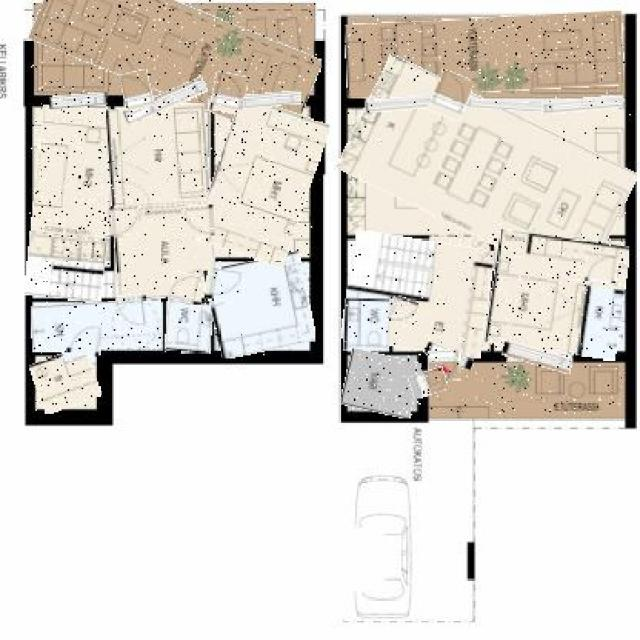door: (431, 71, 471, 120), (211, 72, 246, 114), (206, 269, 243, 303), (121, 71, 152, 111), (117, 296, 151, 332), (169, 272, 205, 305), (409, 368, 448, 397), (68, 323, 100, 357), (182, 206, 216, 237), (584, 254, 618, 283), (429, 351, 460, 380), (106, 208, 139, 235), (388, 297, 417, 325)
window: (123, 86, 209, 117), (502, 345, 572, 369), (208, 94, 302, 109), (542, 97, 623, 112), (364, 97, 434, 112), (424, 346, 474, 366), (464, 100, 548, 111), (49, 94, 108, 109)
zone: (343, 80, 631, 262), (31, 0, 317, 117), (344, 15, 624, 96), (109, 106, 214, 300), (203, 101, 319, 262), (344, 235, 490, 354), (30, 106, 116, 300), (489, 234, 626, 355), (208, 256, 312, 356), (430, 363, 622, 415), (32, 300, 162, 351), (343, 352, 420, 416), (34, 351, 98, 411), (166, 298, 211, 354), (345, 298, 389, 351)
